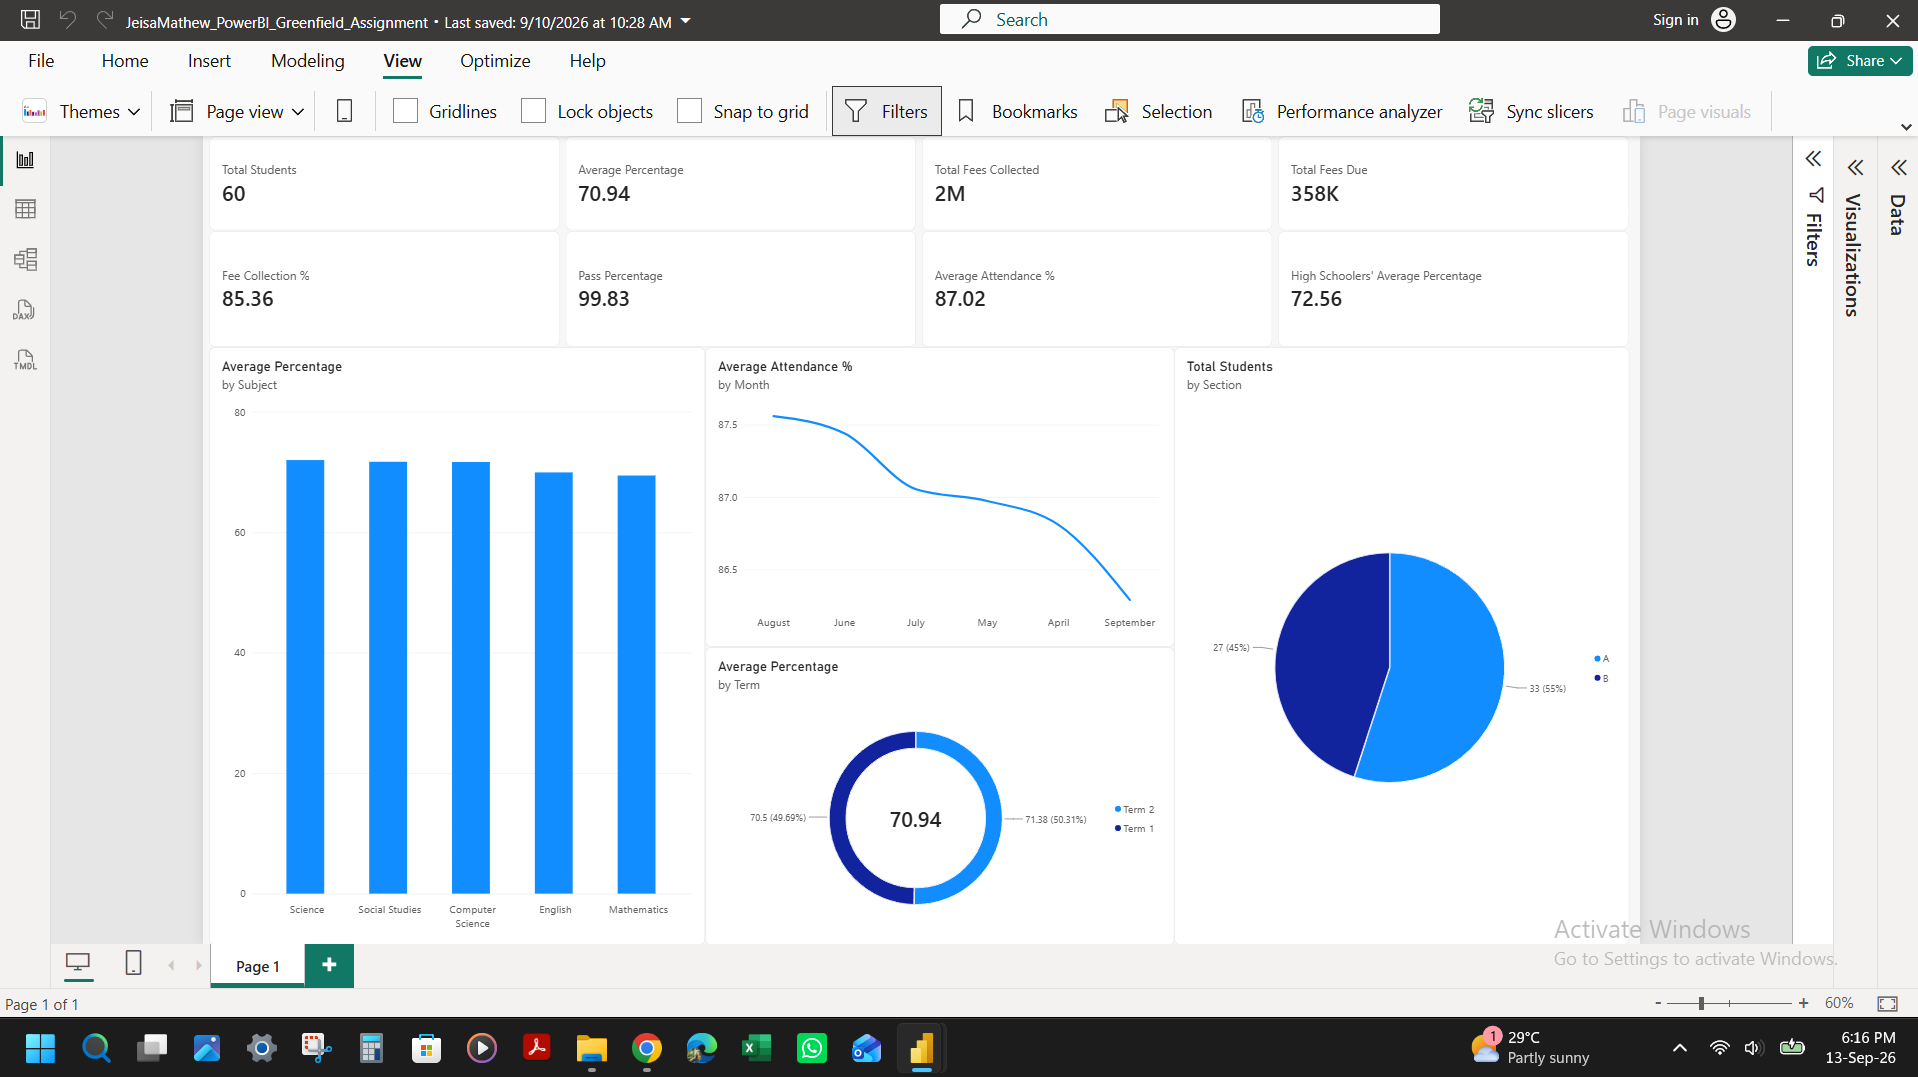

This screenshot's page, from the dashboard's own definition file:
{"tool":"powerbi","page":{"name":"Page 1","canvas":[1920,1080],"ordinal":0},"visuals":[{"type":"cardVisual","fields":{"Data":["Students.Total Students","Marks.Average Percentage","Fees.Total Fees Collected","Fees.Total Fees Due"]},"box":[9,0,1896.5,126.7],"z":0},{"type":"cardVisual","fields":{"Data":["Fees.Fee Collection %","Marks.Pass Percentage","Attendance.Average Attendance %","Marks.High Schoolers' Average Percentage"]},"box":[9,126.7,1896.5,155.6],"z":1000},{"type":"clusteredColumnChart","fields":{"Category":["Marks.Subject"],"Y":["Marks.Average Percentage"]},"box":[9,282.3,662.3,798.1],"z":2000},{"type":"lineChart","fields":{"Category":["Attendance.Month"],"Y":["Attendance.Average Attendance %"]},"box":[671.4,282.3,626.1,399.9],"z":3000},{"type":"donutChart","fields":{"Category":["Marks.Term"],"Y":["Marks.Average Percentage"]},"box":[671.4,682.2,626.1,398.1],"z":4000},{"type":"pieChart","fields":{"Category":["Students.Section"],"Y":["Students.Total Students"]},"box":[1297.5,282.3,608,798.1],"z":5000}]}

Visuals, with their boxes on the page's 1920x1080 design canvas (x1, y1, x2, y2). These are canvas units, not pixel positions in the 1918x1077 screenshot, which may show the page scaled, cropped or inside an application window:
cardVisual - Students.Total Students x Marks.Average Percentage: pyautogui.locateOnScreen(9, 0, 1906, 127)
cardVisual - Fees.Fee Collection % x Marks.Pass Percentage: pyautogui.locateOnScreen(9, 127, 1906, 282)
clusteredColumnChart - Marks.Subject x Marks.Average Percentage: pyautogui.locateOnScreen(9, 282, 671, 1080)
lineChart - Attendance.Month x Attendance.Average Attendance %: pyautogui.locateOnScreen(671, 282, 1298, 682)
donutChart - Marks.Term x Marks.Average Percentage: pyautogui.locateOnScreen(671, 682, 1298, 1080)
pieChart - Students.Section x Students.Total Students: pyautogui.locateOnScreen(1298, 282, 1906, 1080)
